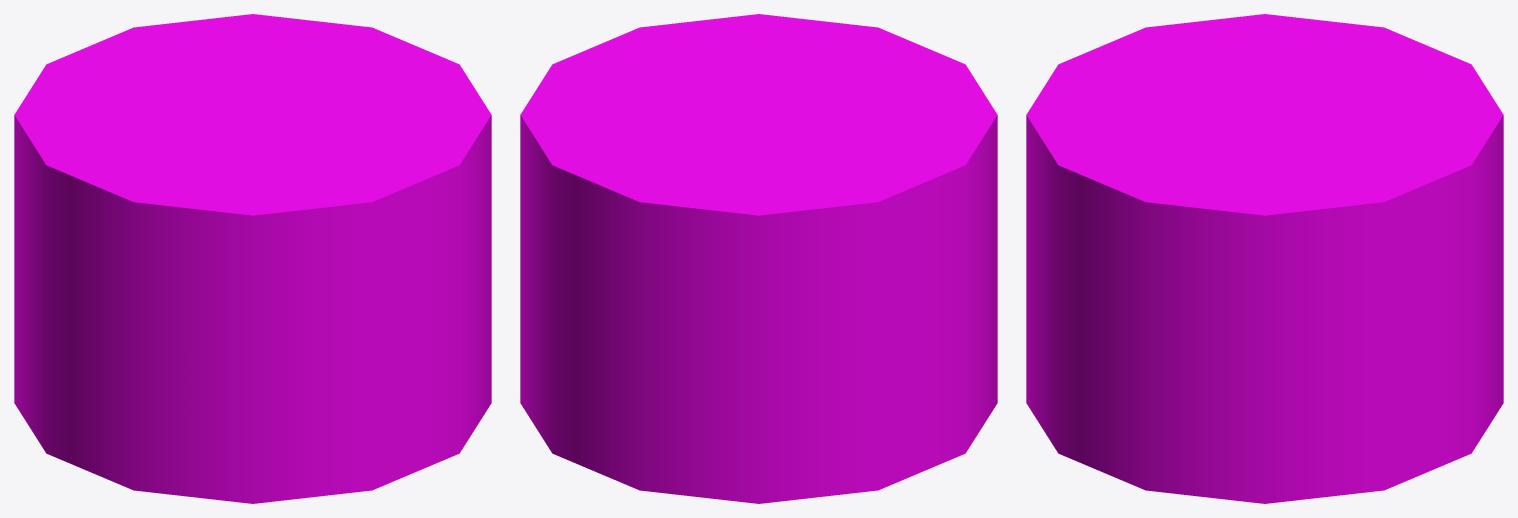
File: fern-sword.collision.glb
3 renders of one model, left to right at view 1: azimuth 30°, elevation 25°; view 2: azimuth 150°, elevation 25°; view 3: azimuth 270°, elevation 25°, orthographic.
Visible parts, largest first — view 1: fern_sword_collision_collision; view 2: fern_sword_collision_collision; view 3: fern_sword_collision_collision.
Part boxes in pixels (box(x1,y1,x2,y2)): fern_sword_collision_collision: box(14, 14, 491, 503); fern_sword_collision_collision: box(520, 14, 997, 503); fern_sword_collision_collision: box(1026, 14, 1503, 503).
Size of the model in its own units: 0.9 by 0.6 by 0.9.
